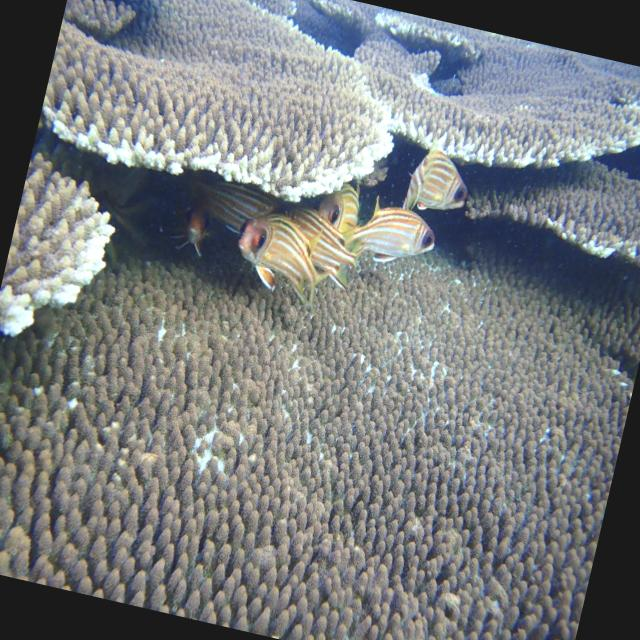Asker Baligi: (218, 215, 336, 318), (351, 192, 436, 268), (398, 140, 476, 222)
